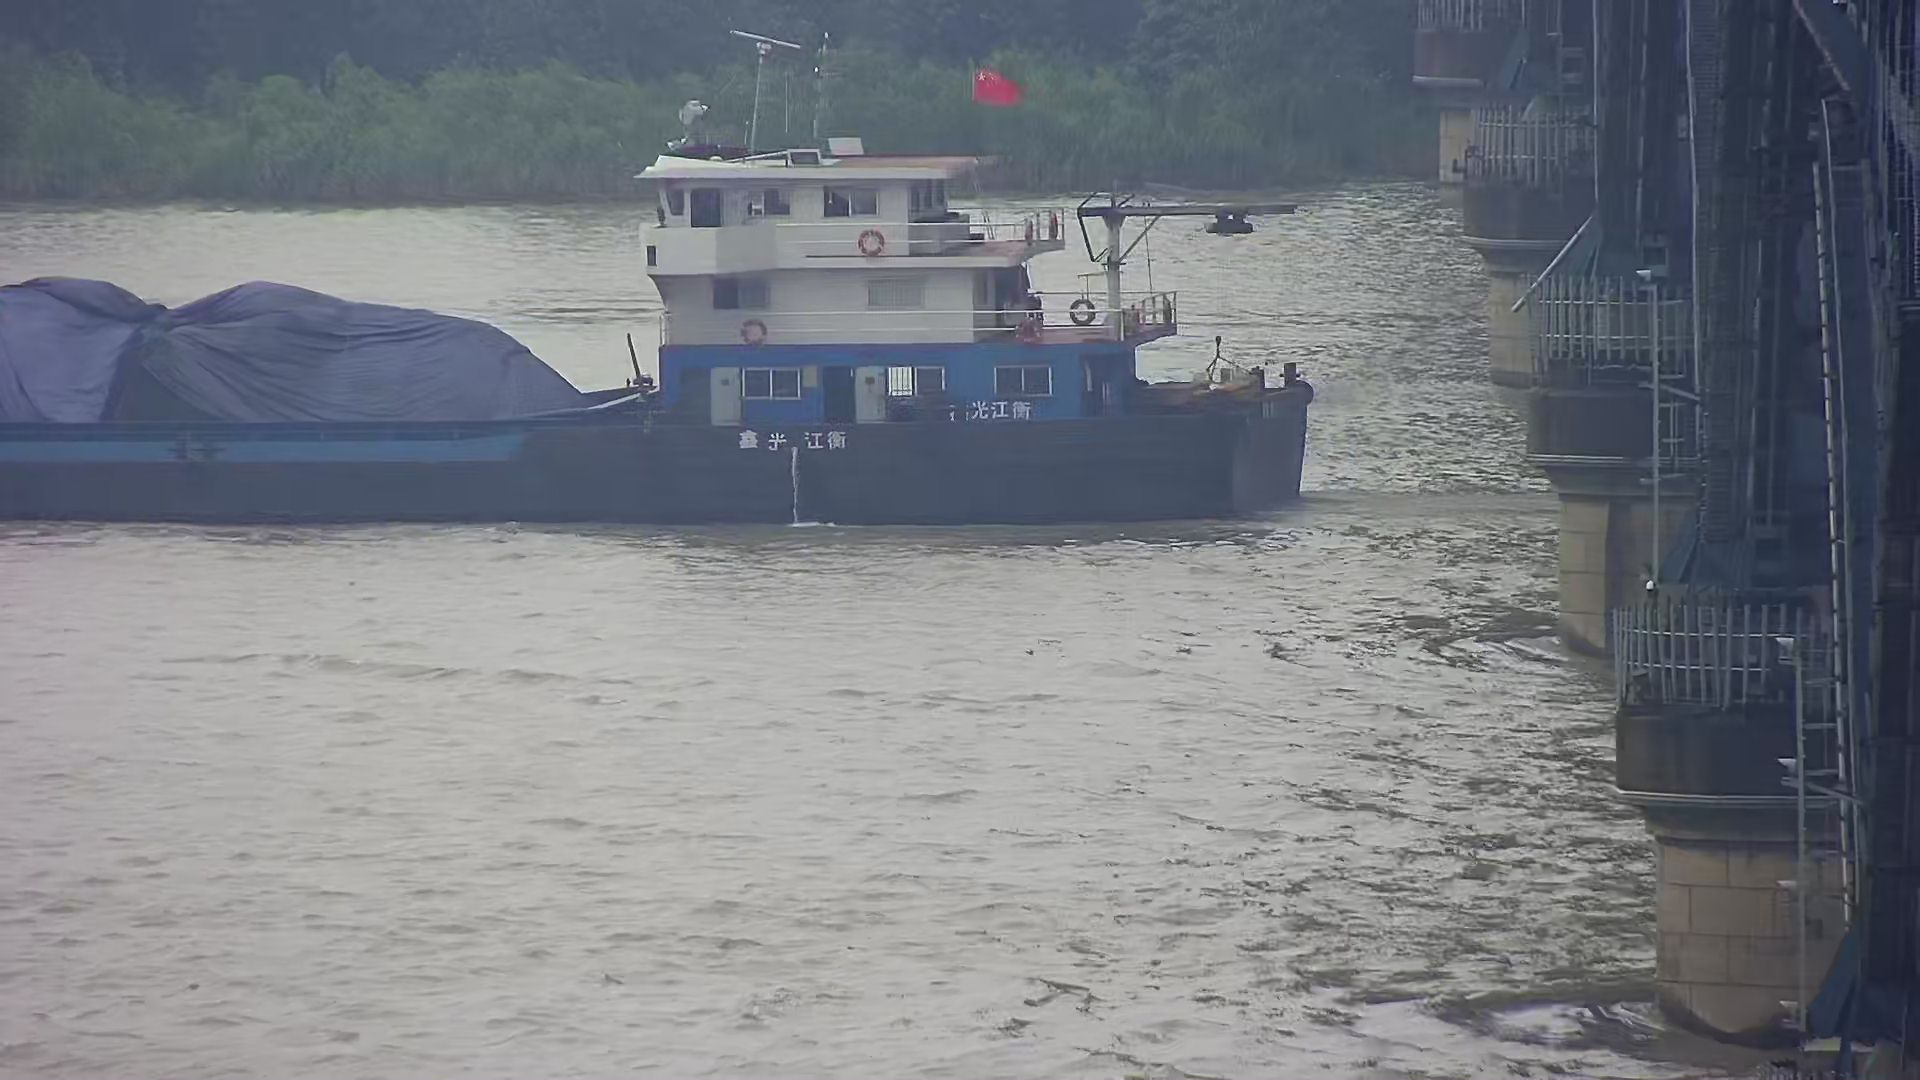bridge: (1402, 1, 1916, 1069)
ship: (1, 20, 1319, 524)
